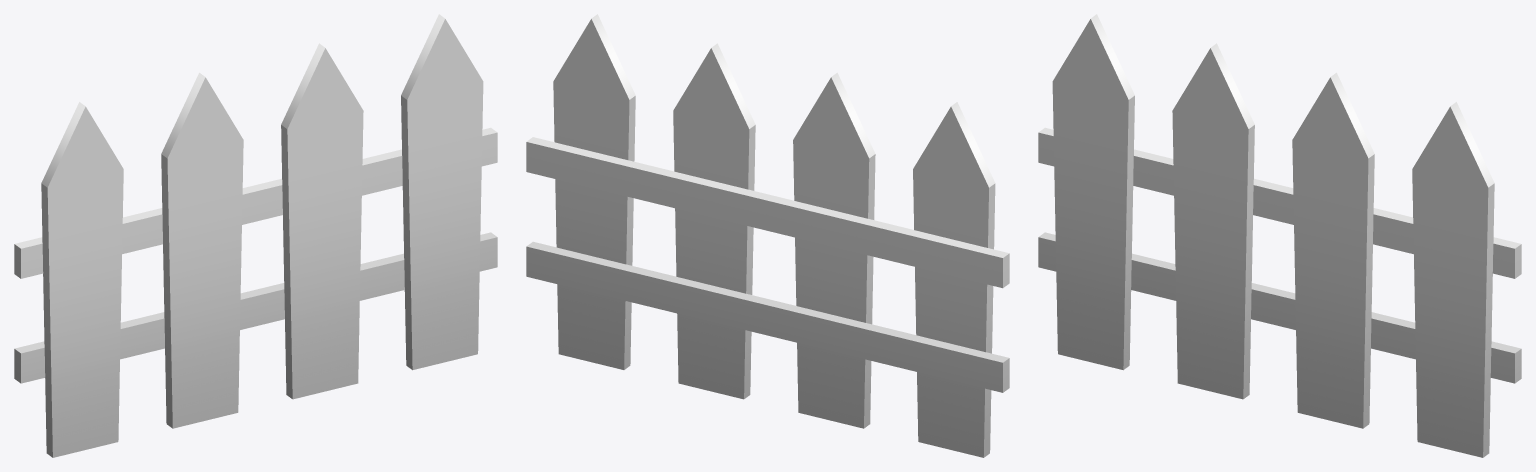
The model's file is fence.fbx.
The picture shows the model from 3 angles, left to right: view 1: azimuth 30°, elevation 25°; view 2: azimuth 150°, elevation 25°; view 3: azimuth 330°, elevation 25°; orthographic projection.
Visible parts, largest first — view 1: fence; view 2: fence; view 3: fence.
Part boxes in pixels (x1,y1,x2,y2): fence: (14,14,497,457); fence: (526,14,1009,457); fence: (1038,14,1521,457).
Bounding box in the file's own units: 1.05 × 0.7248 × 0.0491.
Materials: 1 (1 with a texture image).
